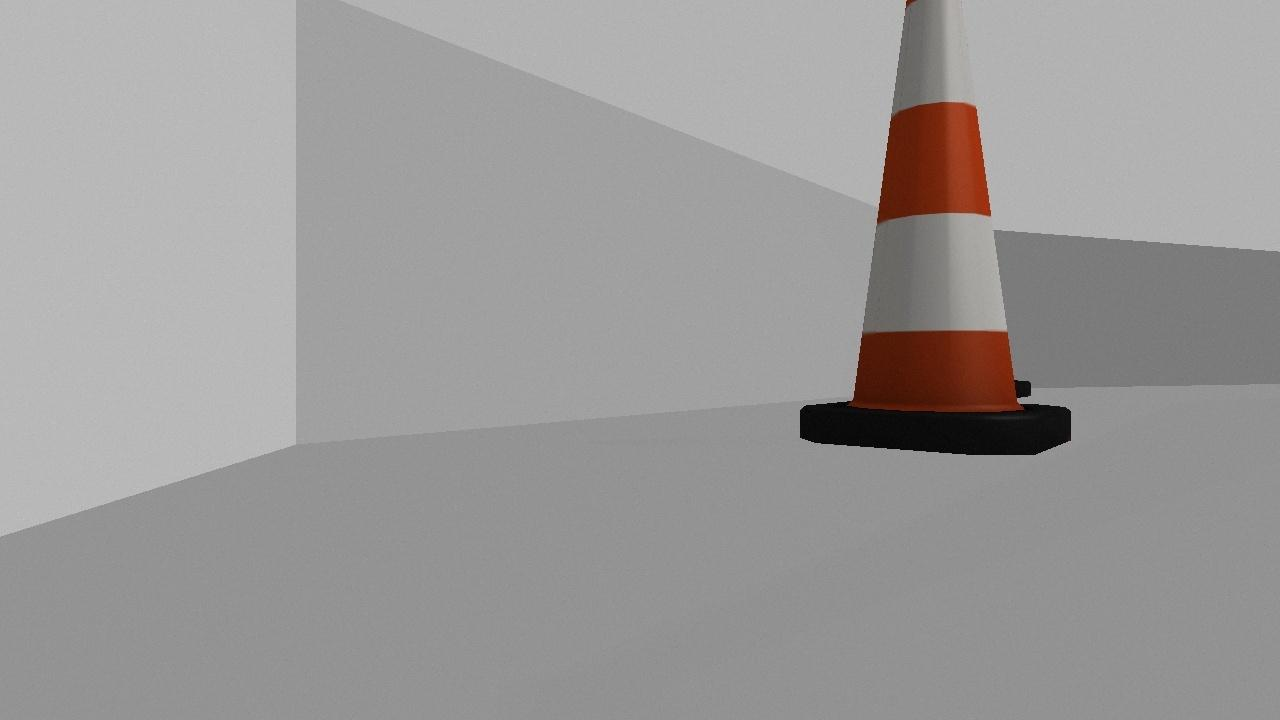cone_barrel: (796, 0, 1073, 455)
